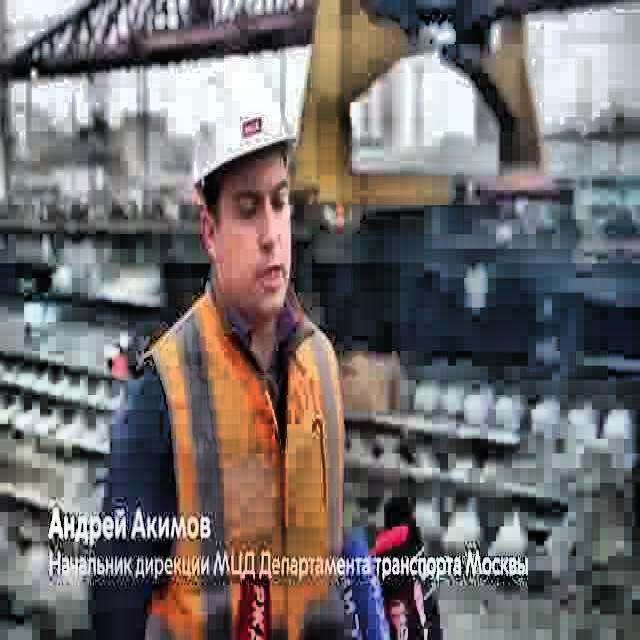safety_helmet: (190, 60, 296, 188)
safety_jacket: (143, 289, 348, 640)
